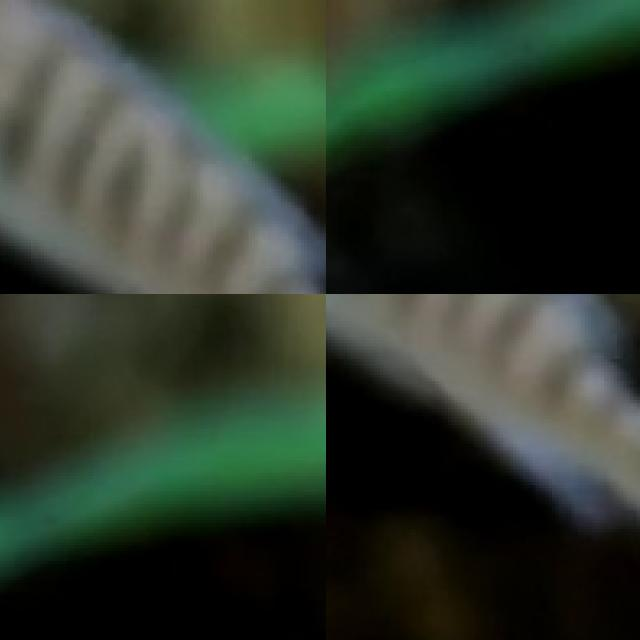fish: (326, 294, 640, 630), (0, 0, 326, 294)
